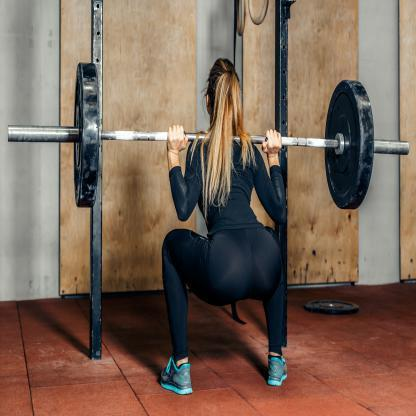Barbell: (5, 118, 16, 147)
